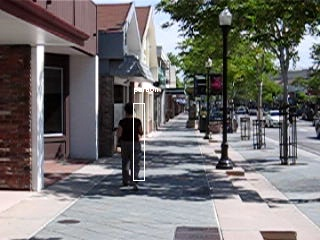person: (116, 103, 144, 193), (115, 103, 143, 193), (117, 103, 145, 193), (116, 102, 144, 192), (116, 104, 144, 194)
target_negative: (3, 140, 270, 225), (104, 189, 274, 225), (151, 149, 229, 180), (58, 195, 185, 210), (240, 176, 313, 184), (289, 202, 299, 220)
